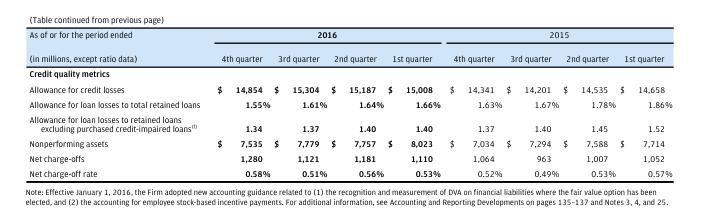table: (28, 29, 672, 178)
table column: (28, 29, 207, 178), (207, 29, 271, 178), (385, 29, 444, 178), (444, 29, 503, 178), (271, 29, 328, 178), (328, 29, 385, 178), (503, 29, 560, 178), (560, 29, 617, 178), (617, 29, 672, 178)
table column header: (28, 29, 672, 65)
table projected row header: (28, 65, 672, 81)
table row: (28, 111, 672, 135), (28, 46, 672, 65), (28, 29, 672, 46), (28, 65, 672, 81), (28, 81, 672, 96), (28, 96, 672, 111), (28, 135, 672, 150), (28, 150, 672, 165), (28, 165, 672, 178)
table spanning cell: (28, 29, 207, 65), (207, 29, 444, 46), (444, 29, 672, 46)
